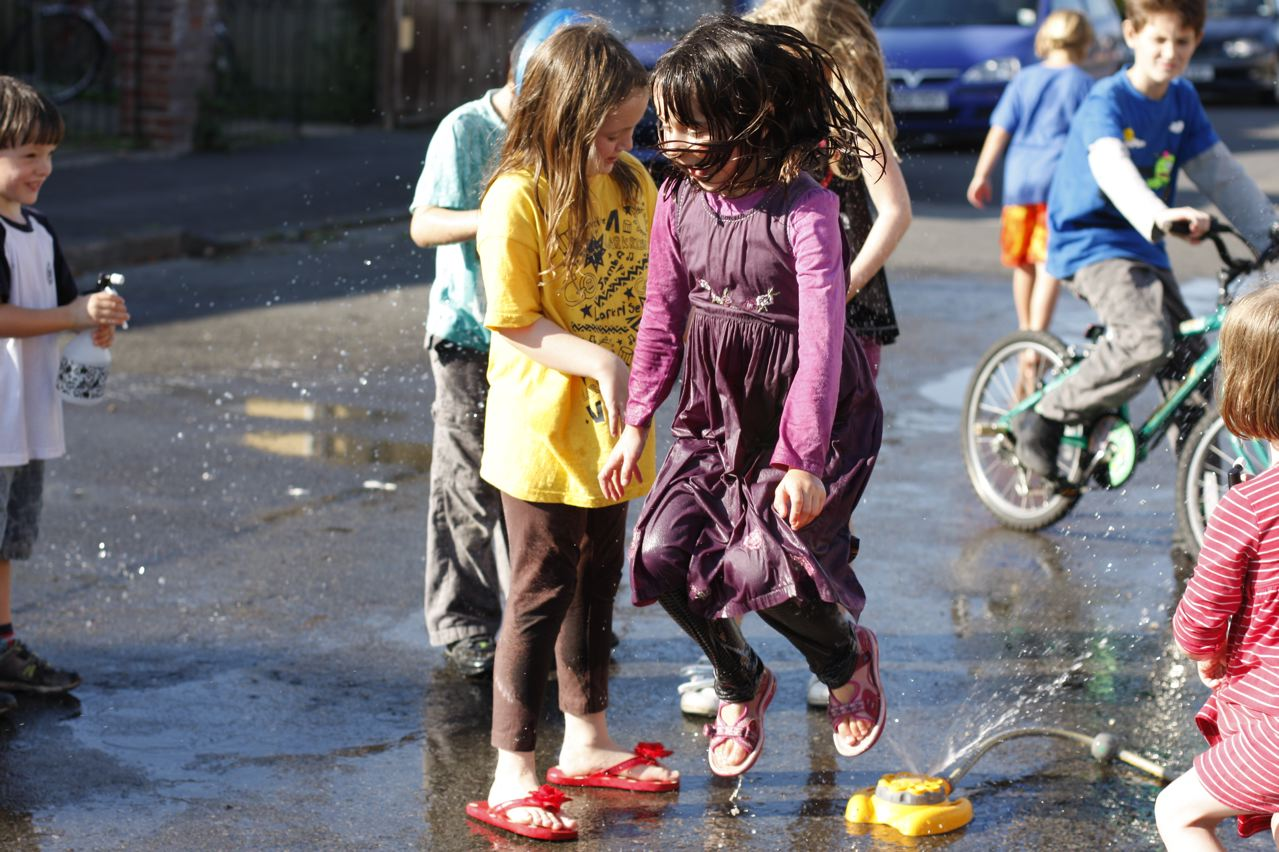Person: (630, 5, 918, 801), (451, 21, 694, 847), (4, 54, 138, 734)
